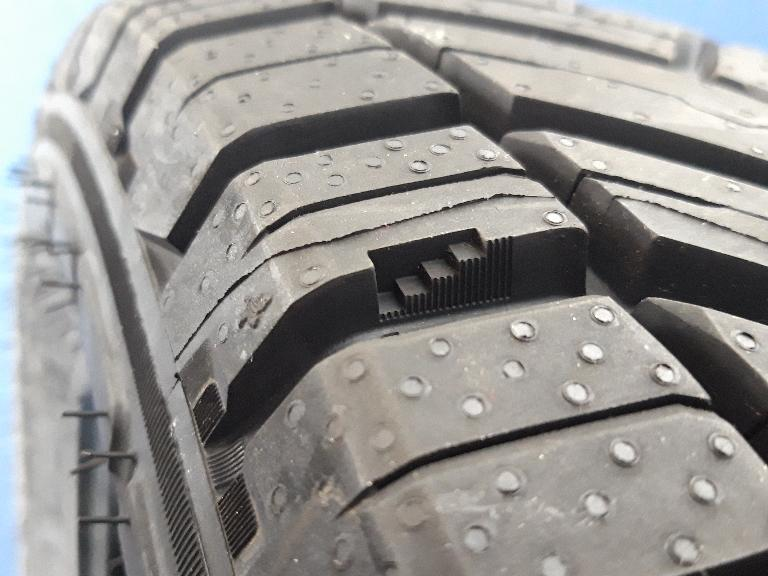temoin:100: (361, 220, 522, 329)
